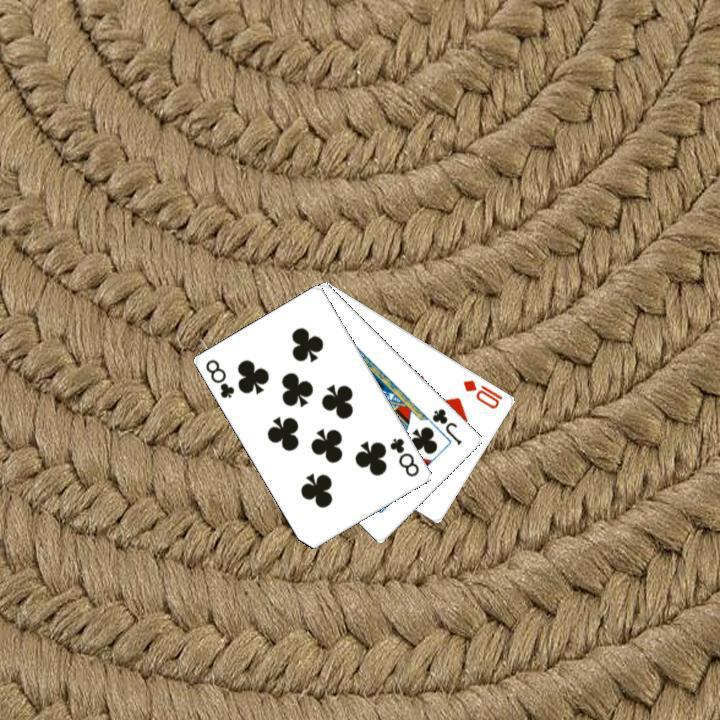10: (459, 375, 505, 411)
8: (386, 433, 422, 479), (201, 355, 237, 401)
J: (428, 404, 464, 447)
